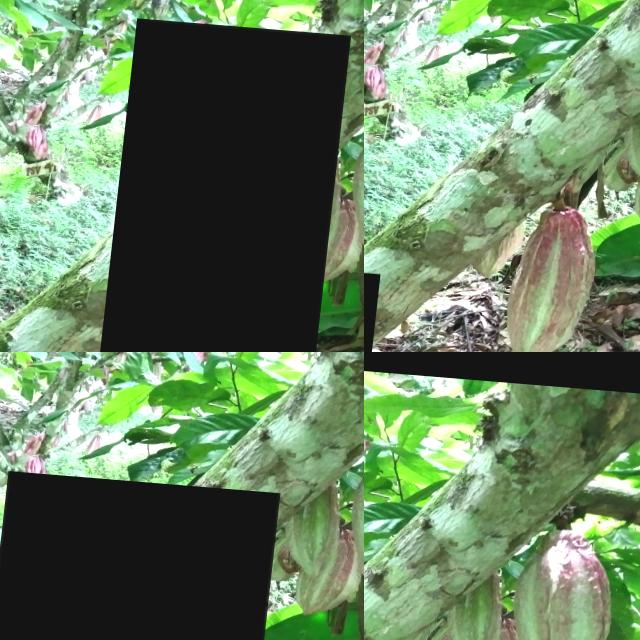Sana: (109, 13, 352, 352), (0, 469, 285, 640), (512, 517, 629, 640), (428, 28, 508, 163), (445, 579, 515, 640), (364, 5, 397, 100), (483, 194, 518, 262), (520, 230, 553, 277), (595, 56, 626, 106), (472, 623, 529, 640)
